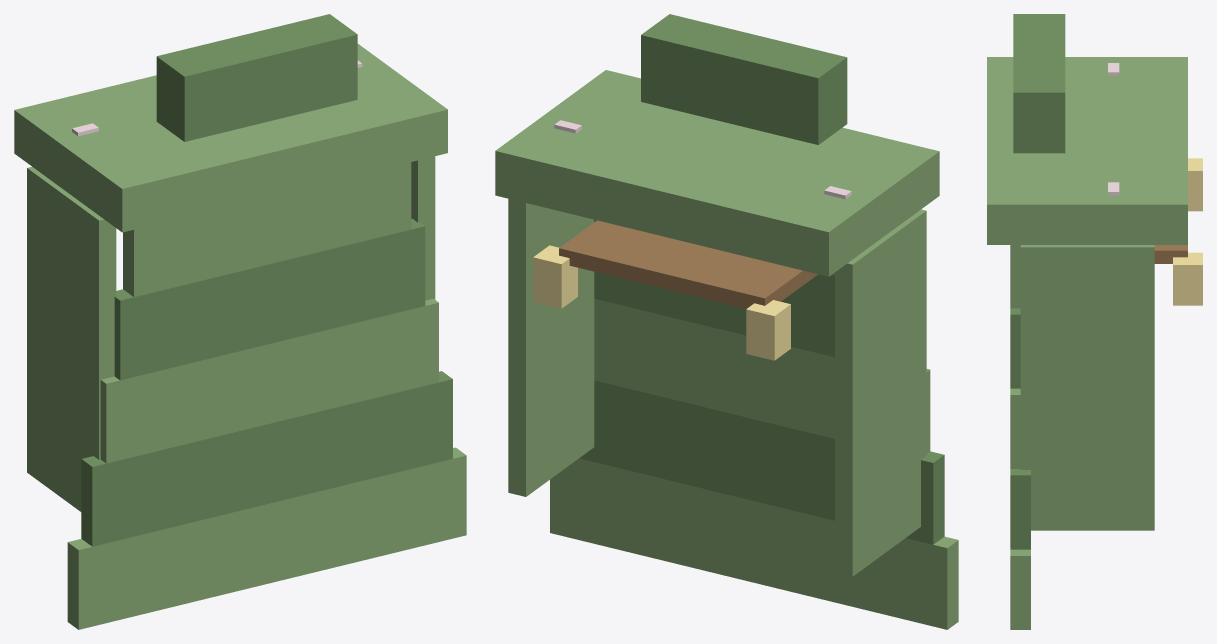
File: manto_musgo.glb
3 renders of one model, left to right at view 1: azimuth 30°, elevation 25°; view 2: azimuth 150°, elevation 25°; view 3: azimuth 270°, elevation 25°, orthographic. The views are drawn at different scales.
Parts seen in each view (by area): view 1: manto_musgo; view 2: manto_musgo; view 3: manto_musgo.
Part boxes in pixels (x1=…): manto_musgo: x1=14, y1=14, x2=466, y2=629; manto_musgo: x1=495, y1=14, x2=958, y2=629; manto_musgo: x1=987, y1=14, x2=1202, y2=629.
Bounding box in the file's own units: 1.12 × 1.45 × 0.58.
